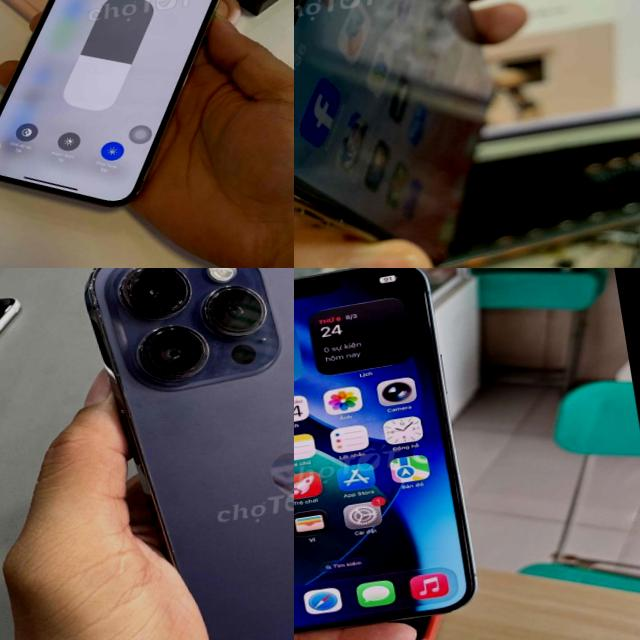gen_12_13: (0, 0, 273, 231)
gen_14: (64, 268, 294, 640), (294, 268, 491, 640), (294, 0, 546, 268)
scratch: (82, 270, 111, 320)
